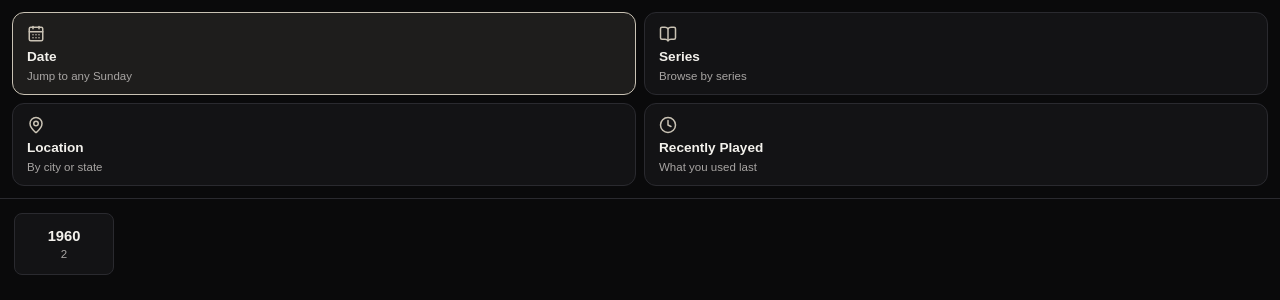
Scenario: Browse > Series without an internet connection › says the series list needs a connection instead of "Loading series…" forever
Click the button "Series Browse by series": [679, 56] box [644,12,1268,95]
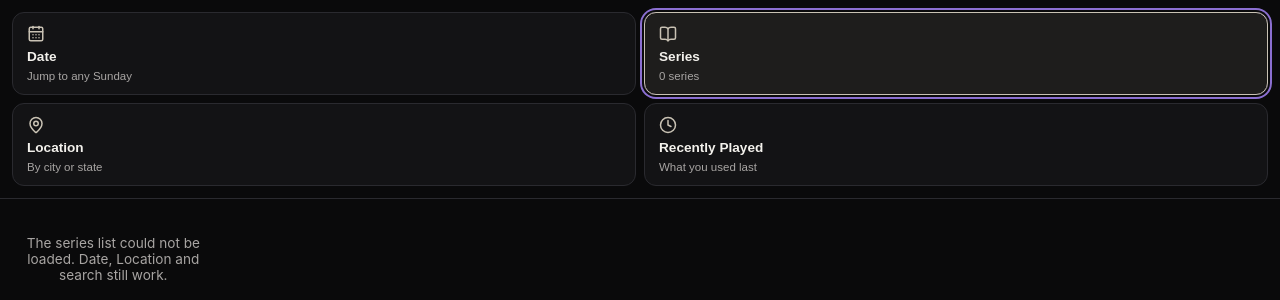
expect the text "The series list could not be loaded. Date, Location and search still work." is shown: met, box [27,235,200,283]
